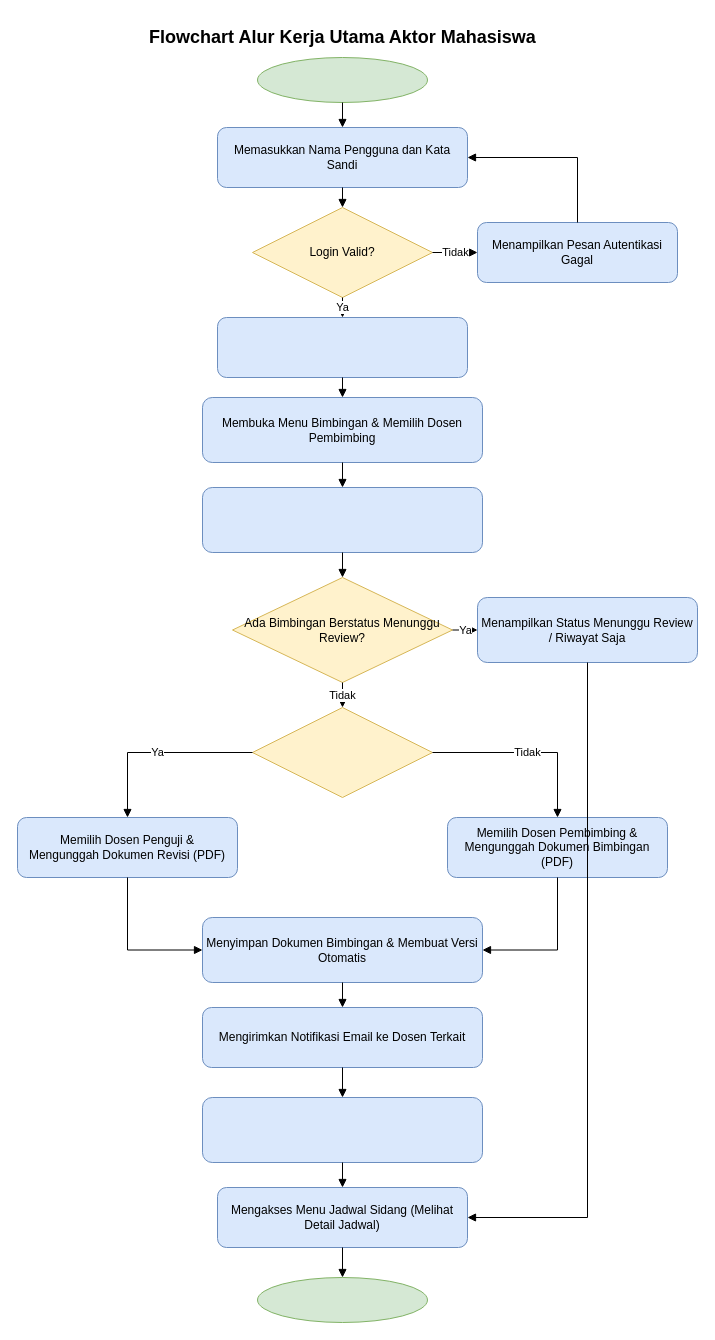
Image size: 715x1340. Some labels were removed from this diagram. The centre of each missing label's shape, as x and y in pixels:
"Apakah Mahasiswa dalam Fase Revisi Ujian?" goes at (342,752).
"Menampilkan Notifikasi Sukses Unggah Dokumen" goes at (342,1129).
"Menampilkan Riwayat Bimbingan Sesuai Dosen Pembimbing" goes at (342,519).
"Mengakses Dashboard Mahasiswa & Memantau Progres" goes at (342,347).
"MULAI" goes at (342,79).
"SELESAI" goes at (342,1299).
